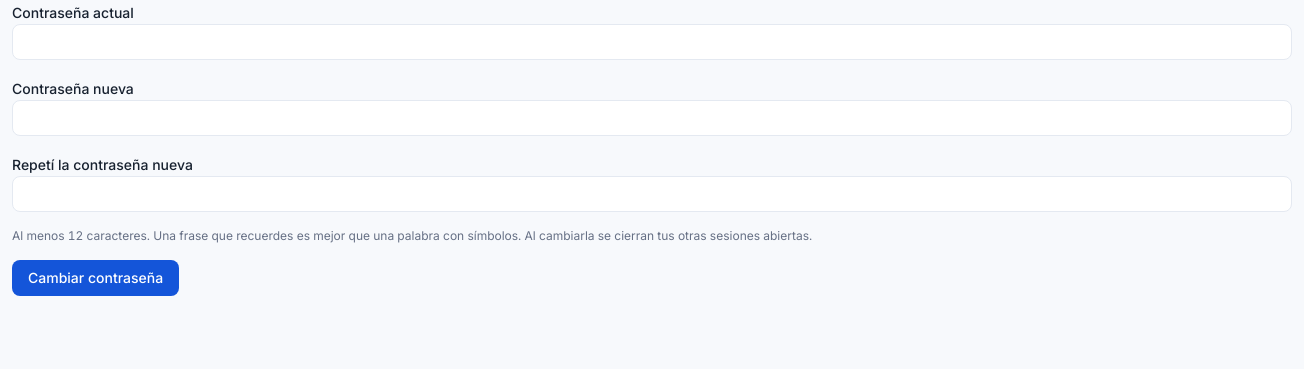
Scenario: PasswordForm › sends the change and confirms that the other sessions were closed
In the password field labelled "Contraseña actual": (652, 42) [12,24,1292,60], type "la-contraseña-actual"
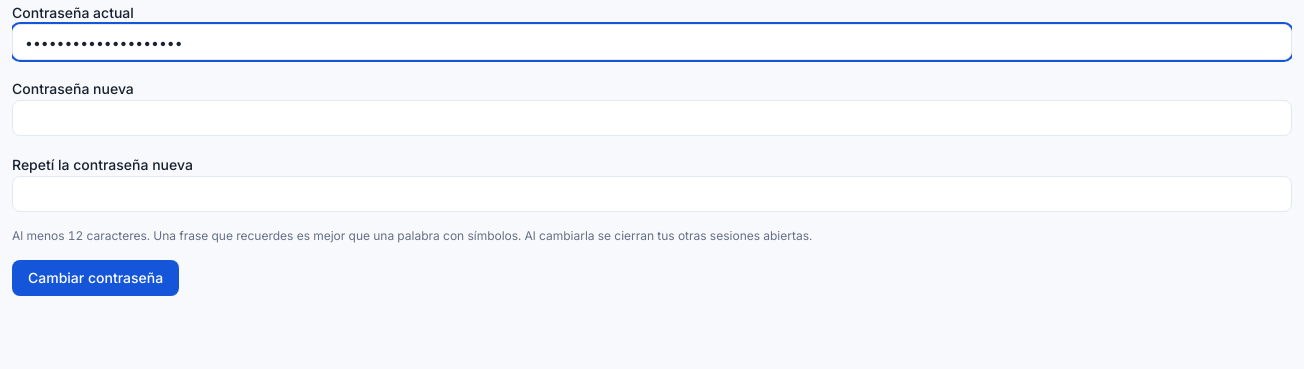
In the password field labelled "Contraseña nueva": (652, 118) [12,100,1292,136], type "una-frase-bien-larga"
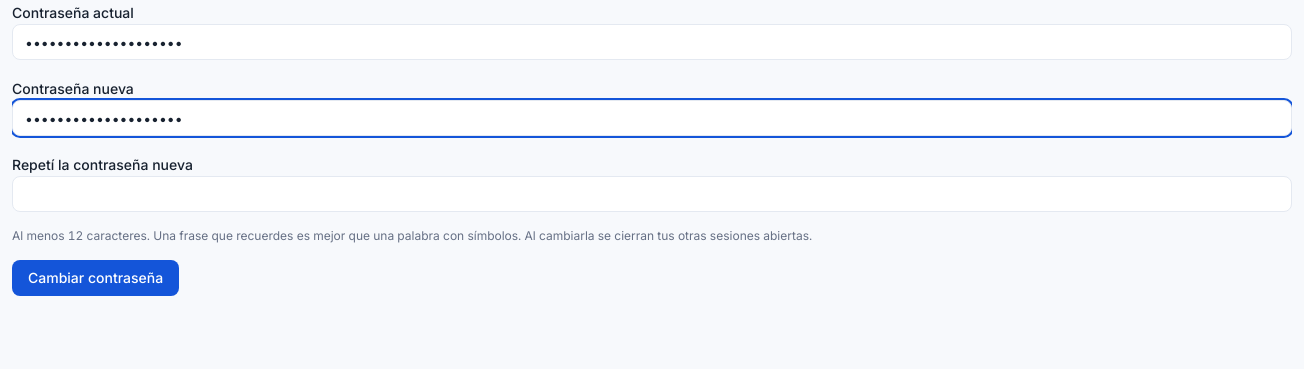
In the password field labelled "Repetí la contraseña nueva": (652, 194) [12,176,1292,212], type "una-frase-bien-larga"
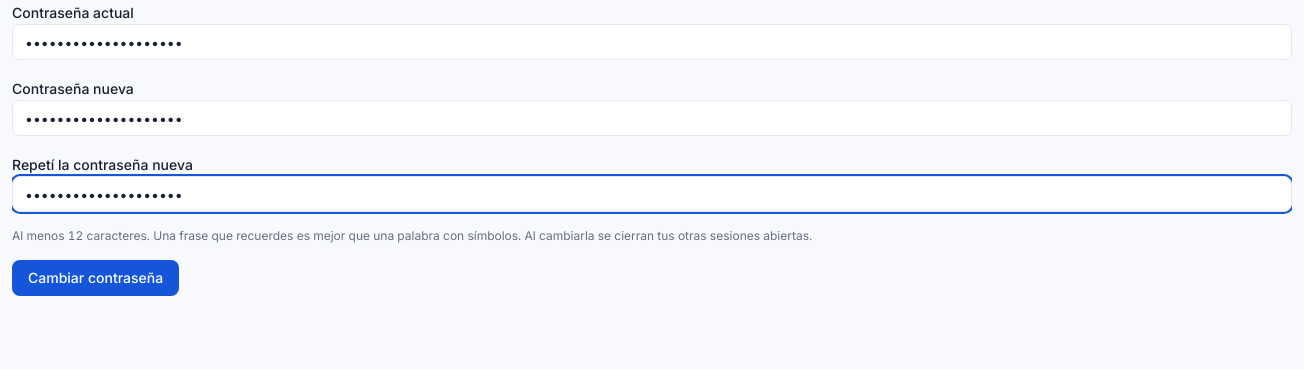
Click the button "Cambiar contraseña": (96, 278) [12,260,179,296]
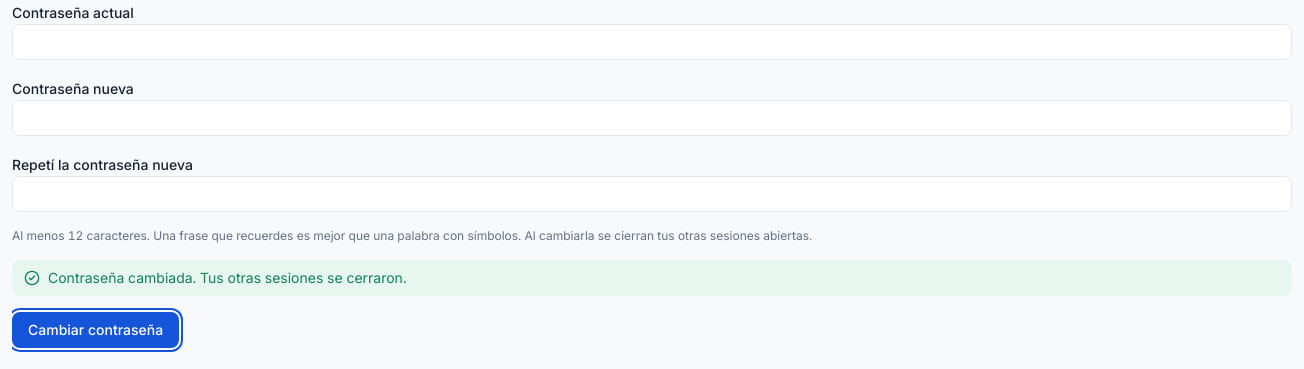
Expected: the message shows "Tus otras sesiones se cerraron.", [48,269,407,286]
